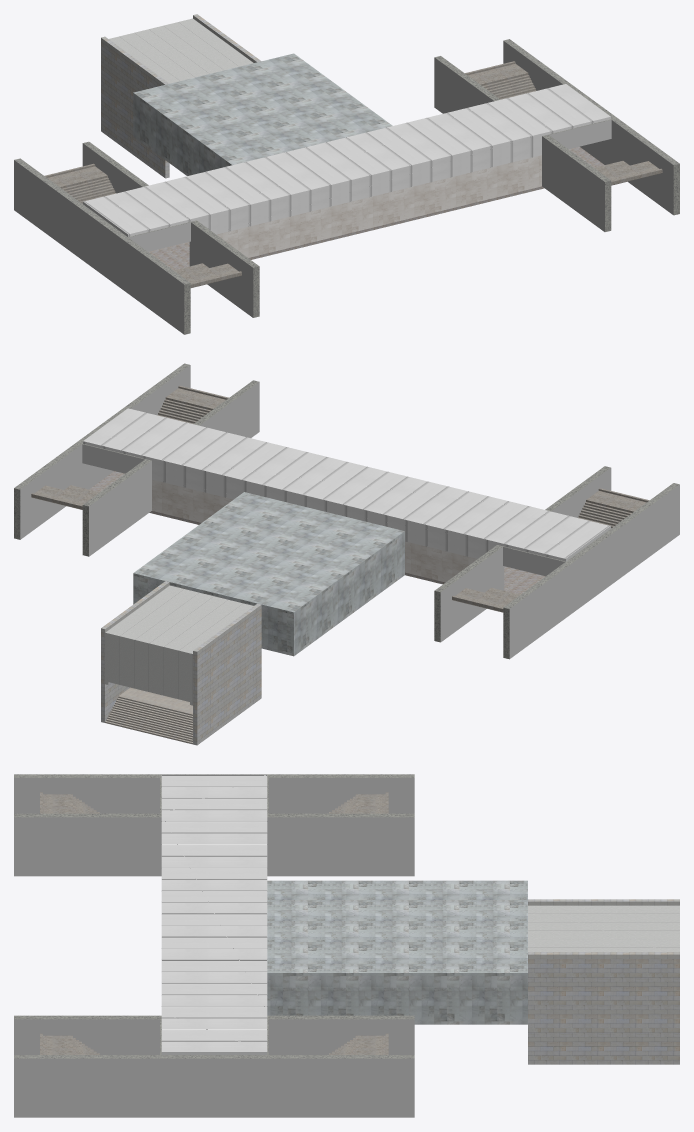
The model's file is Subway02_CorridorInter.FBX.
3 views of the same model, one above another, from view 1: azimuth 30°, elevation 25°; view 2: azimuth 150°, elevation 25°; view 3: azimuth 270°, elevation 25° (orthographic). The views are drawn at different scales.
Visible parts, largest first — view 1: Subway02_CorridorCeil, Subway02_aStairWall, Subway02_Inter, Subway02_CorridorWall, Subway02_aStair, Subway02StairUp, Subway02StairWall01, Subway02_CorridorFloor; view 2: Subway02_aStairWall, Subway02_CorridorCeil, Subway02_Inter, Subway02StairUp, Subway02StairWall01, Subway02_aStair, Subway02_CorridorWall, Subway02Stair, Subway02_CorridorFloor; view 3: Subway02_aStairWall, Subway02_Inter, Subway02_CorridorCeil, Subway02StairWall01, Subway02StairUp, Subway02_aStair.
Part boxes in pixels (x1,y1,x2,y2): Subway02_CorridorCeil: [83, 84, 610, 236]; Subway02_aStairWall: [14, 39, 679, 334]; Subway02_Inter: [133, 53, 392, 175]; Subway02_CorridorWall: [217, 155, 541, 257]; Subway02_aStair: [44, 61, 662, 287]; Subway02StairUp: [109, 18, 253, 83]; Subway02StairWall01: [101, 14, 261, 178]; Subway02_CorridorFloor: [148, 146, 604, 270]; Subway02_aStairWall: [14, 363, 679, 659]; Subway02_CorridorCeil: [83, 408, 610, 561]; Subway02_Inter: [133, 492, 404, 656]; Subway02StairUp: [105, 585, 253, 705]; Subway02StairWall01: [101, 581, 261, 745]; Subway02_aStair: [31, 385, 649, 612]; Subway02_CorridorWall: [152, 479, 477, 582]; Subway02Stair: [105, 687, 192, 744]; Subway02_CorridorFloor: [89, 471, 545, 594]; Subway02_aStairWall: [14, 774, 414, 1117]; Subway02_Inter: [267, 880, 527, 1024]; Subway02_CorridorCeil: [161, 774, 267, 1054]; Subway02StairWall01: [528, 899, 679, 1064]; Subway02StairUp: [528, 905, 679, 951]; Subway02_aStair: [40, 792, 388, 1054].
Size of the model in its own units: 78938 by 16018 by 78106.
